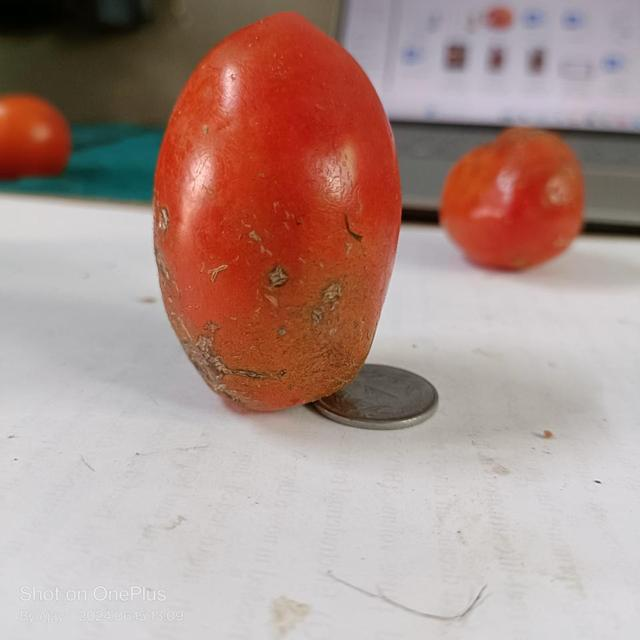Bacterial Spot Fruit: (16, 21, 224, 241)
